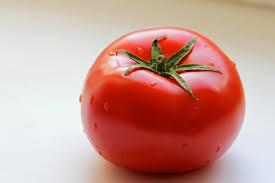tomato: (84, 30, 242, 173)
